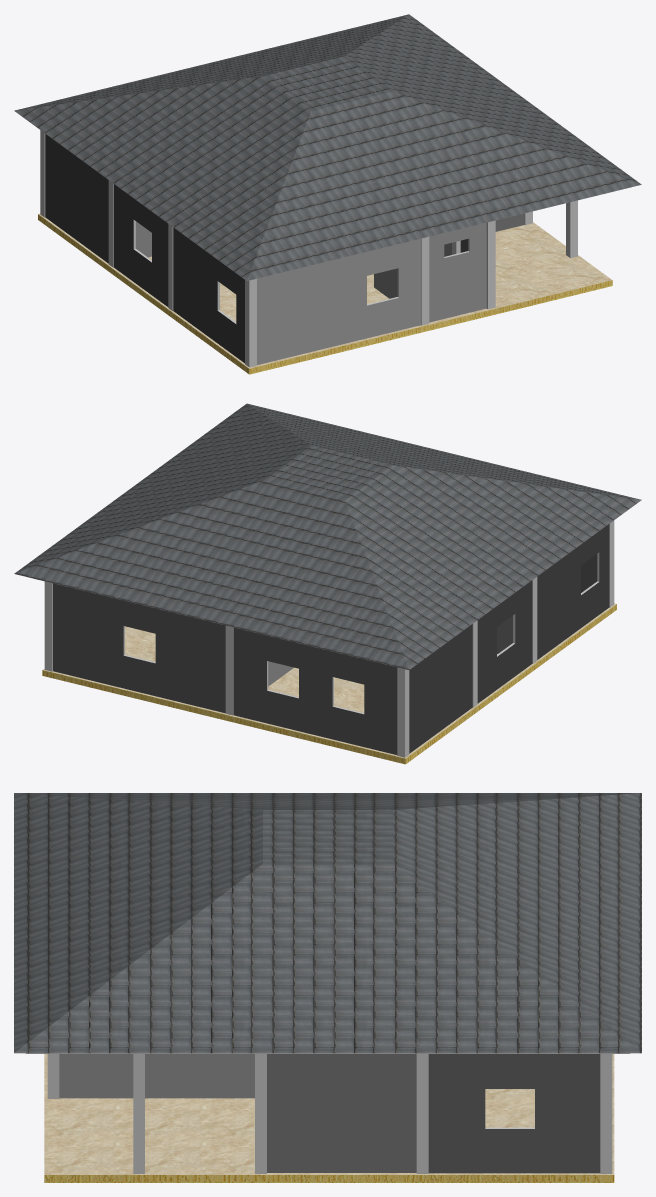
The model's file is Casa C2-02.fbx.
3 views of the same model, one above another, from view 1: azimuth 30°, elevation 25°; view 2: azimuth 150°, elevation 25°; view 3: azimuth 270°, elevation 25° (orthographic). The views are drawn at different scales.
Visible parts, largest first — view 1: Cubo; view 2: Cubo; view 3: Cubo.
Boxes of the visible parts, x1,y1,x2,y2 form: Cubo: [14, 14, 641, 374]; Cubo: [14, 403, 641, 764]; Cubo: [14, 793, 641, 1182].
Size of the model in its own units: 2477 by 1012 by 2528.
Materials: 15 (3 with a texture image).
